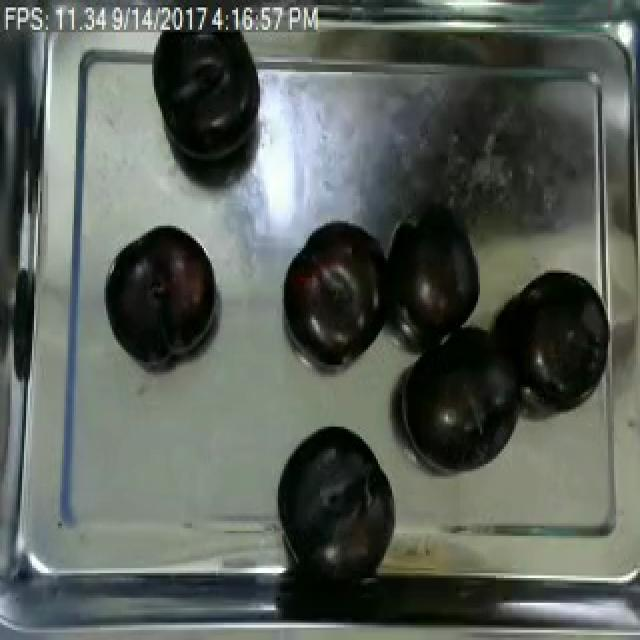Fruit: (398, 318, 530, 477), (268, 416, 400, 570), (100, 220, 220, 364), (274, 213, 386, 367), (148, 30, 268, 171), (508, 268, 610, 409), (378, 216, 484, 340)
